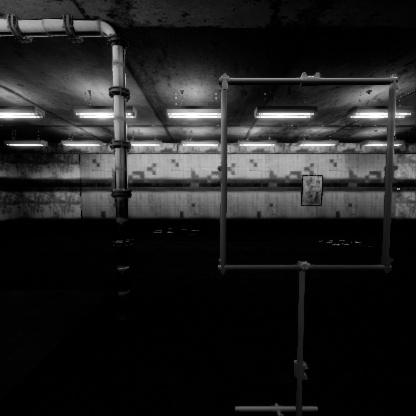gate: (220, 143, 412, 338)
